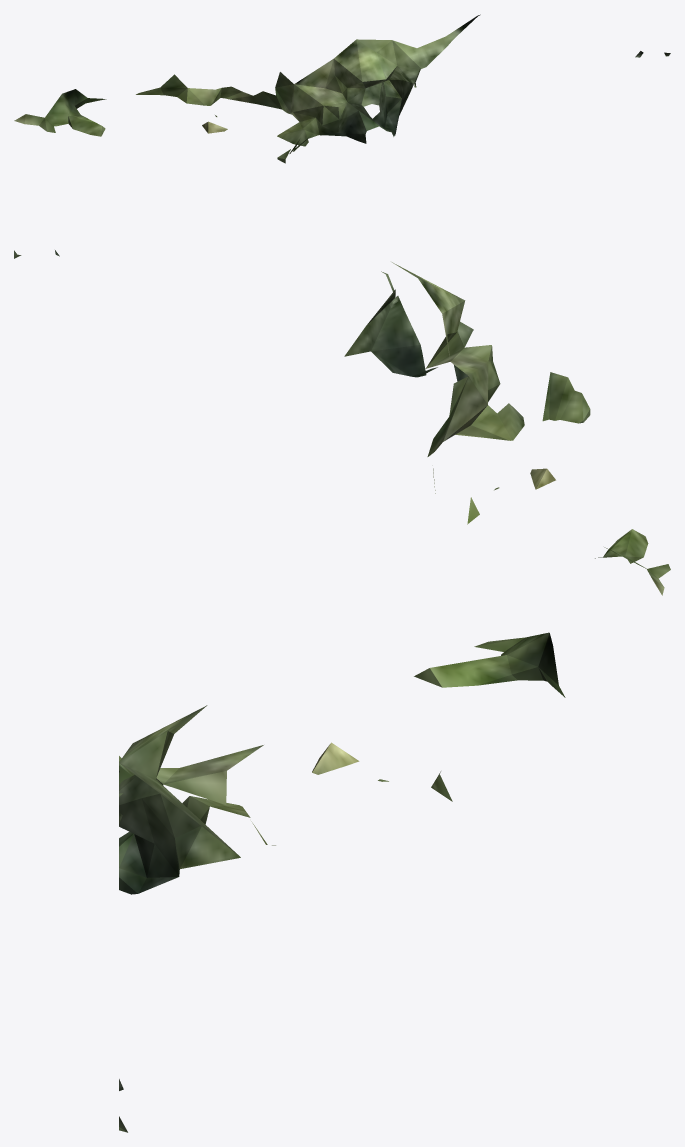
3 renders of one model, top to bottom at view 1: azimuth 30°, elevation 25°; view 2: azimuth 150°, elevation 25°; view 3: azimuth 270°, elevation 25°, orthographic. The views are drawn at different scales.
Bounding box in the file's own units: 174 × 30.88 × 61.62.
Materials: 1 (1 with a texture image).
